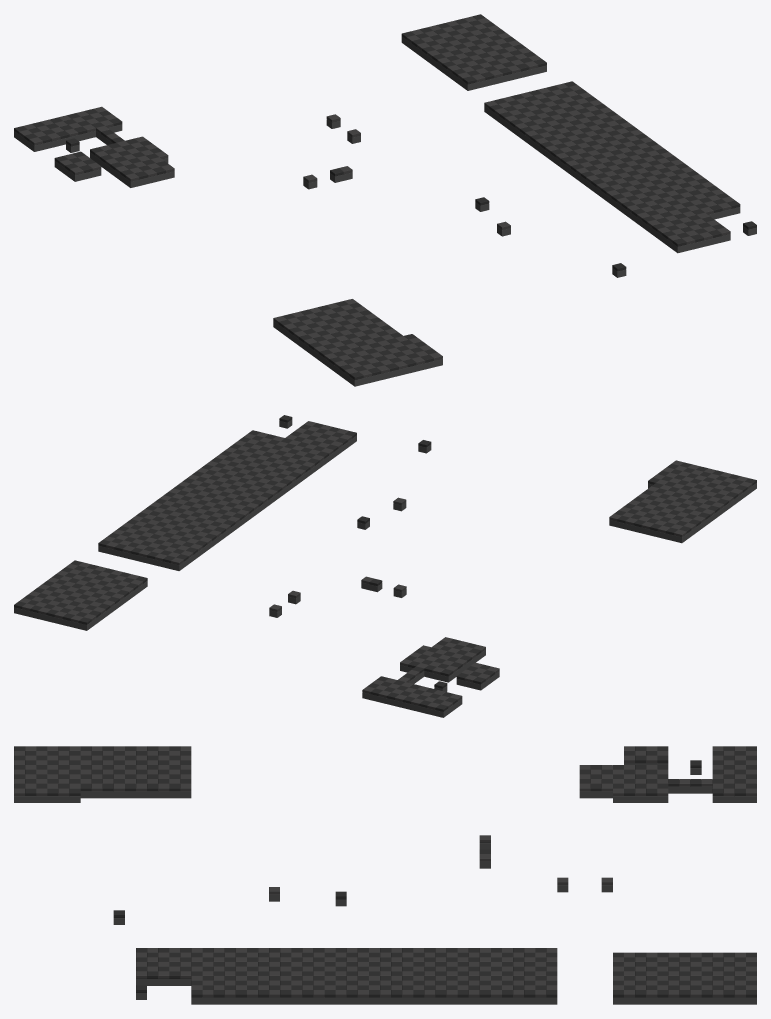
The model's file is Baked Mesh 3.obj.
3 views of the same model, one above another, from view 1: azimuth 30°, elevation 25°; view 2: azimuth 150°, elevation 25°; view 3: azimuth 270°, elevation 25° (orthographic). The views are drawn at different scales.
Parts seen in each view (by area): view 1: Baked Mesh 3; view 2: Baked Mesh 3; view 3: Baked Mesh 3.
Boxes of the visible parts, x1,y1,x2,y2 form: Baked Mesh 3: (14,14,756,386); Baked Mesh 3: (14,415,756,717); Baked Mesh 3: (14,746,756,1004).
Bounding box in the file's own units: 106 × 2 × 134.
Materials: 1 (1 with a texture image).
